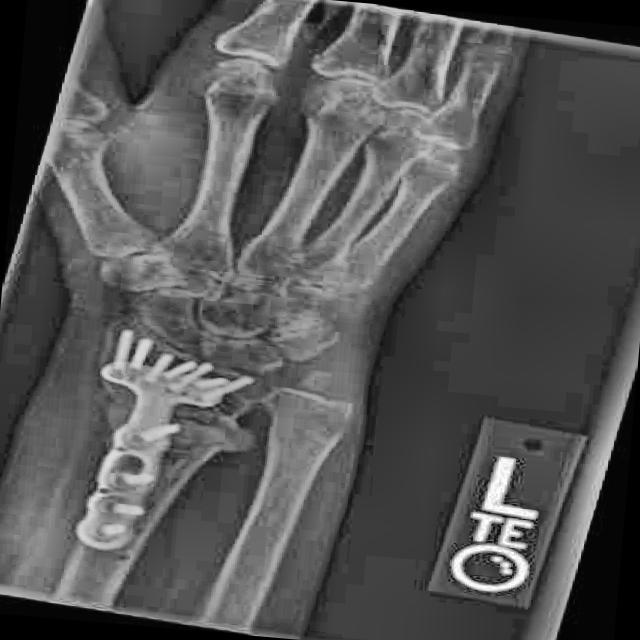fingers positive: (79, 376, 289, 480)
